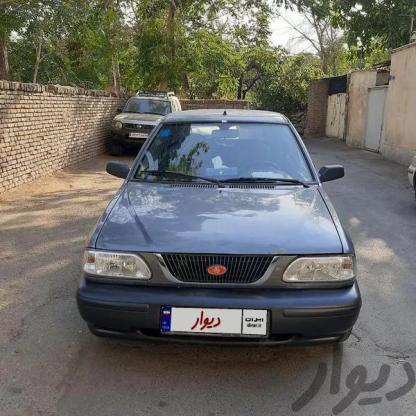Car: (84, 110, 365, 368), (107, 89, 197, 163)
